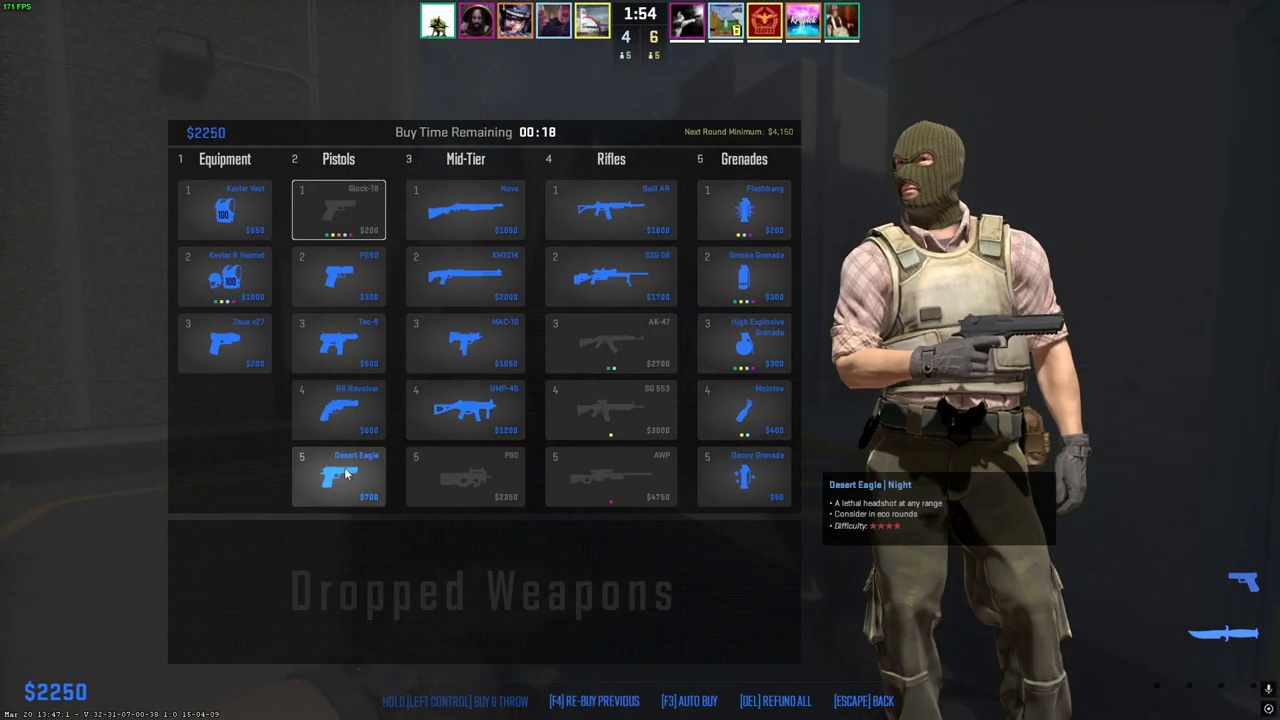Terrorist: (848, 121, 1074, 720)
